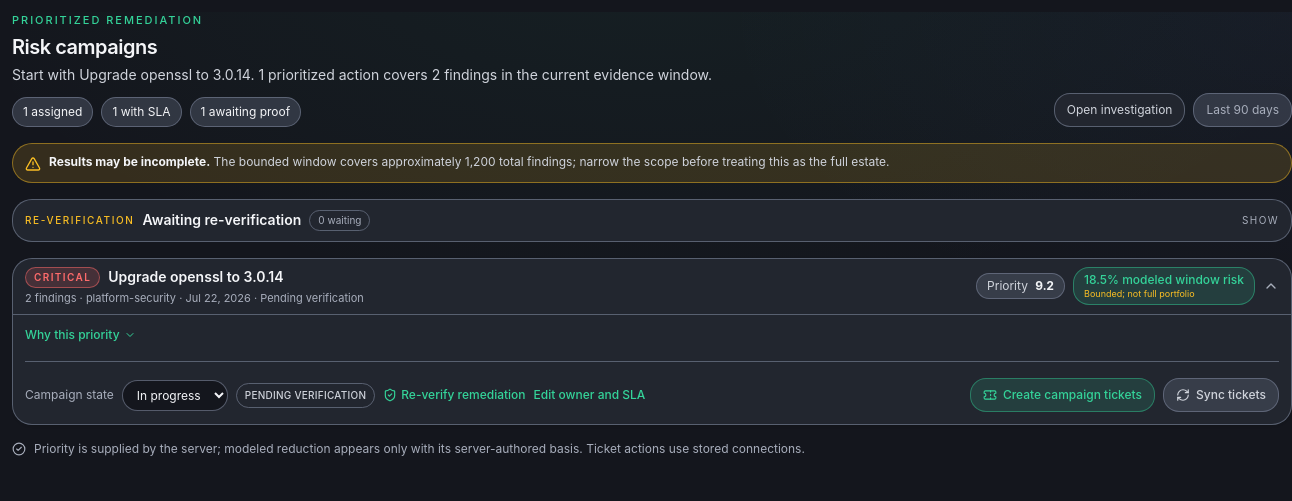
Test: RiskCampaignCommandCenter › reports partial bulk ticket results and never requests a credential
Expected: the heading "Upgrade openssl to 3.0.14" is shown, [108,267,284,287]
Click the button "Create campaign tickets" at coordinates (1062, 395), box [970,378,1155,412]
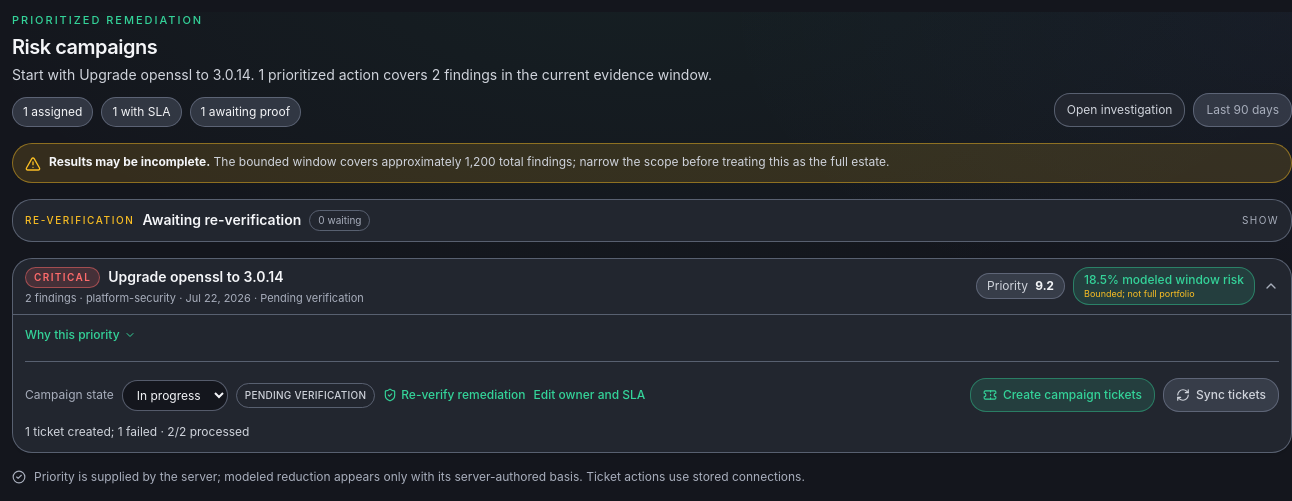
Result: the text "1 ticket created; 1 failed · 2/2 processed" is shown at [25,424,249,439]
